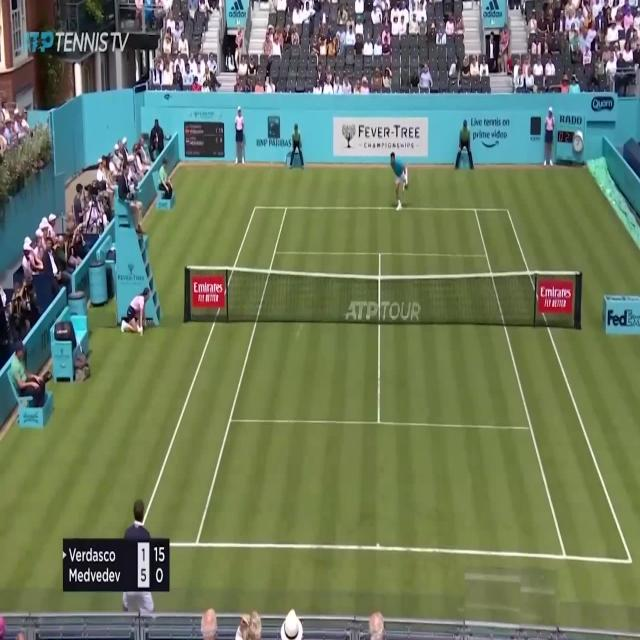bottom-dead-zone: (196, 421, 565, 556)
court: (136, 207, 630, 560)
left-doubles-alley: (134, 208, 287, 546)
left-service-box: (230, 253, 380, 424)
net: (182, 264, 583, 333)
right-doubles-alley: (475, 209, 632, 562)
right-service-box: (378, 253, 531, 427)
top-dead-zone: (275, 208, 487, 255)
